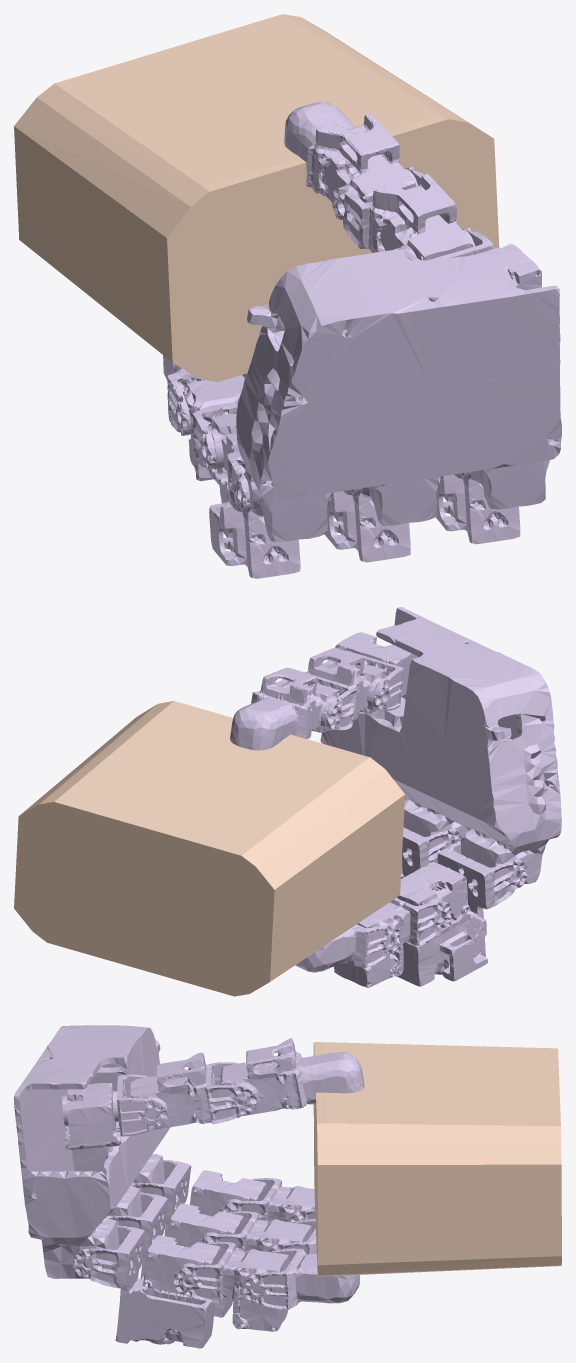
Rendered from b6b27a048329d1-closed.glb.
3 renders of one model, top to bottom at view 1: azimuth 30°, elevation 25°; view 2: azimuth 150°, elevation 25°; view 3: azimuth 270°, elevation 25°, orthographic. The views are drawn at different scales.
Visible parts, largest first — view 1: LEAP_hand, world; view 2: world, LEAP_hand; view 3: LEAP_hand, world.
Part boxes in pixels (<box>): LEAP_hand: <box>163,102,561,578</box>; world: <box>14,14,499,381</box>; world: <box>14,701,404,996</box>; LEAP_hand: <box>230,607,561,987</box>; LEAP_hand: <box>14,1025,364,1348</box>; world: <box>313,1042,561,1276</box>.
Size of the model in its own units: 0.1772 by 0.1587 by 0.2806.
